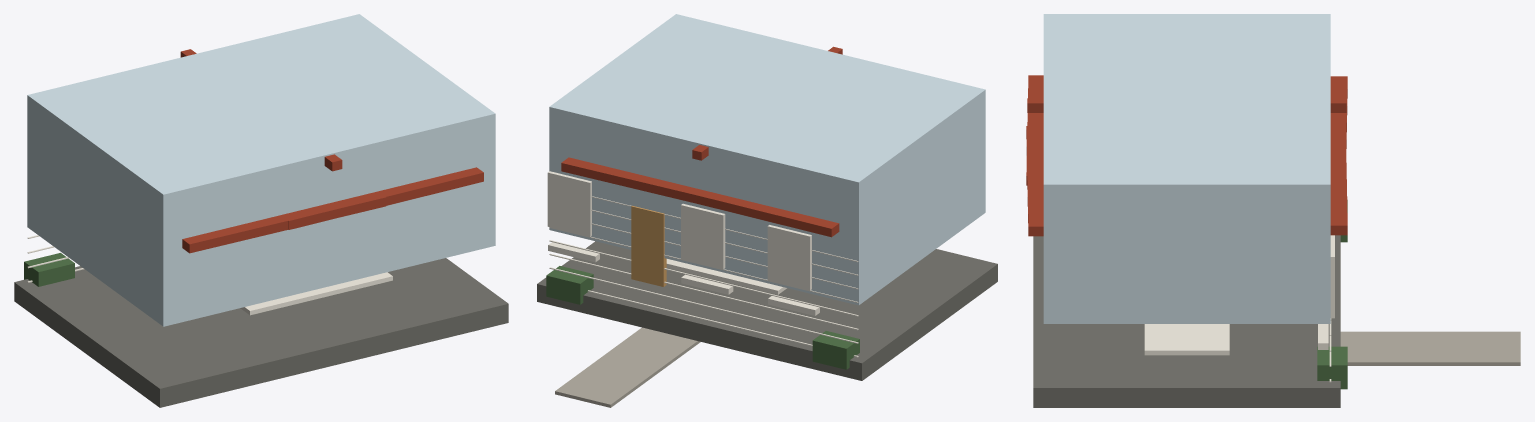
Rendered from blue_family_bungalow.glb.
The picture shows the model from 3 angles, left to right: view 1: azimuth 30°, elevation 25°; view 2: azimuth 150°, elevation 25°; view 3: azimuth 270°, elevation 25°; orthographic projection. The views are drawn at different scales.
Parts seen in each view (by area): view 1: blue_family_bungalow_body, blue_family_bungalow_foundation, blue_family_bungalow_roof_left, blue_family_bungalow_roof_right, blue_family_bungalow_porch_floor, blue_family_bungalow_foundation_shrub; view 2: blue_family_bungalow_body, blue_family_bungalow_foundation, blue_family_bungalow_walkway, blue_family_bungalow_roof_left, blue_family_bungalow_front_door, blue_family_bungalow_window_frame, blue_family_bungalow_window_frame.002, blue_family_bungalow_window_frame.001, blue_family_bungalow_roof_right, blue_family_bungalow_foundation_shrub, blue_family_bungalow_foundation_shrub.001, blue_family_bungalow_porch_floor (+8 smaller); view 3: blue_family_bungalow_body, blue_family_bungalow_foundation, blue_family_bungalow_walkway, blue_family_bungalow_roof_right, blue_family_bungalow_porch_floor, blue_family_bungalow_roof_left, blue_family_bungalow_foundation_shrub.001, blue_family_bungalow_ridge_cap.
Part boxes in pixels (bbox=[...]): blue_family_bungalow_body: bbox=[27, 14, 495, 326]; blue_family_bungalow_foundation: bbox=[14, 258, 508, 407]; blue_family_bungalow_roof_left: bbox=[182, 191, 386, 253]; blue_family_bungalow_roof_right: bbox=[282, 167, 483, 229]; blue_family_bungalow_porch_floor: bbox=[240, 272, 392, 315]; blue_family_bungalow_foundation_shrub: bbox=[24, 253, 74, 286]; blue_family_bungalow_body: bbox=[549, 14, 985, 305]; blue_family_bungalow_foundation: bbox=[537, 241, 997, 380]; blue_family_bungalow_walkway: bbox=[555, 327, 700, 407]; blue_family_bungalow_roof_left: bbox=[650, 179, 839, 237]; blue_family_bungalow_front_door: bbox=[631, 205, 666, 286]; blue_family_bungalow_window_frame: bbox=[767, 225, 811, 290]; blue_family_bungalow_window_frame.002: bbox=[547, 171, 591, 236]; blue_family_bungalow_window_frame.001: bbox=[681, 203, 725, 269]; blue_family_bungalow_roof_right: bbox=[561, 157, 747, 203]; blue_family_bungalow_foundation_shrub: bbox=[812, 331, 859, 369]; blue_family_bungalow_foundation_shrub.001: bbox=[546, 266, 593, 304]; blue_family_bungalow_porch_floor: bbox=[666, 259, 786, 294]; blue_family_bungalow_body: bbox=[1043, 14, 1330, 323]; blue_family_bungalow_foundation: bbox=[1033, 235, 1340, 407]; blue_family_bungalow_walkway: bbox=[1340, 331, 1520, 365]; blue_family_bungalow_roof_right: bbox=[1026, 125, 1347, 236]; blue_family_bungalow_porch_floor: bbox=[1144, 324, 1229, 355]; blue_family_bungalow_roof_left: bbox=[1026, 75, 1347, 185]; blue_family_bungalow_foundation_shrub.001: bbox=[1317, 346, 1347, 389]; blue_family_bungalow_ridge_cap: bbox=[1027, 98, 1346, 112].
Size of the model in its own units: 10.5 by 6.3 by 12.22.
